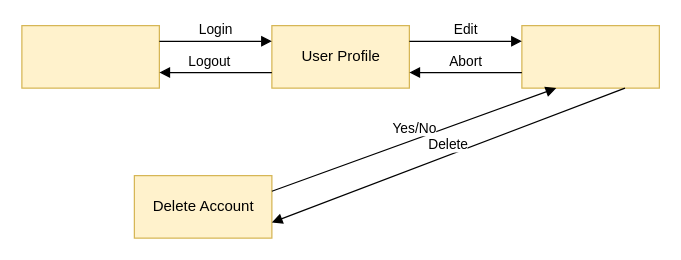
This 681x260 diagram has some shape labels left out. Each missing label, with the box of its shape:
New Account: (21, 24, 159, 88)
Update Account: (521, 24, 659, 88)
